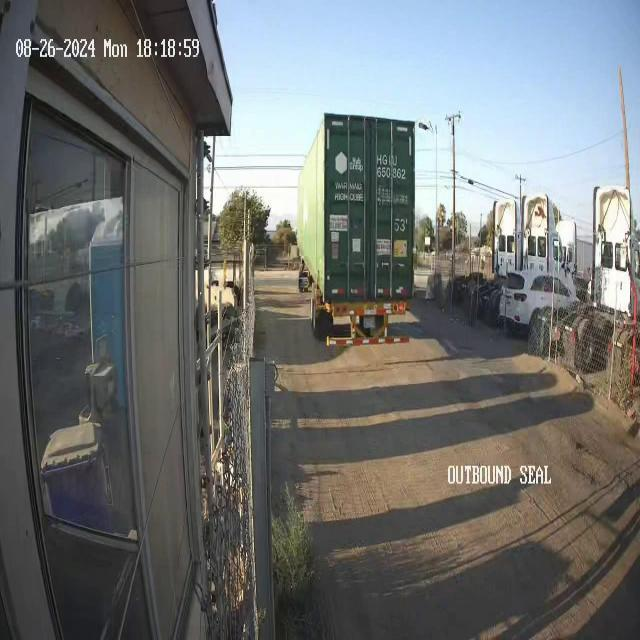TRUCK_CONTAINER: (296, 112, 416, 350)
